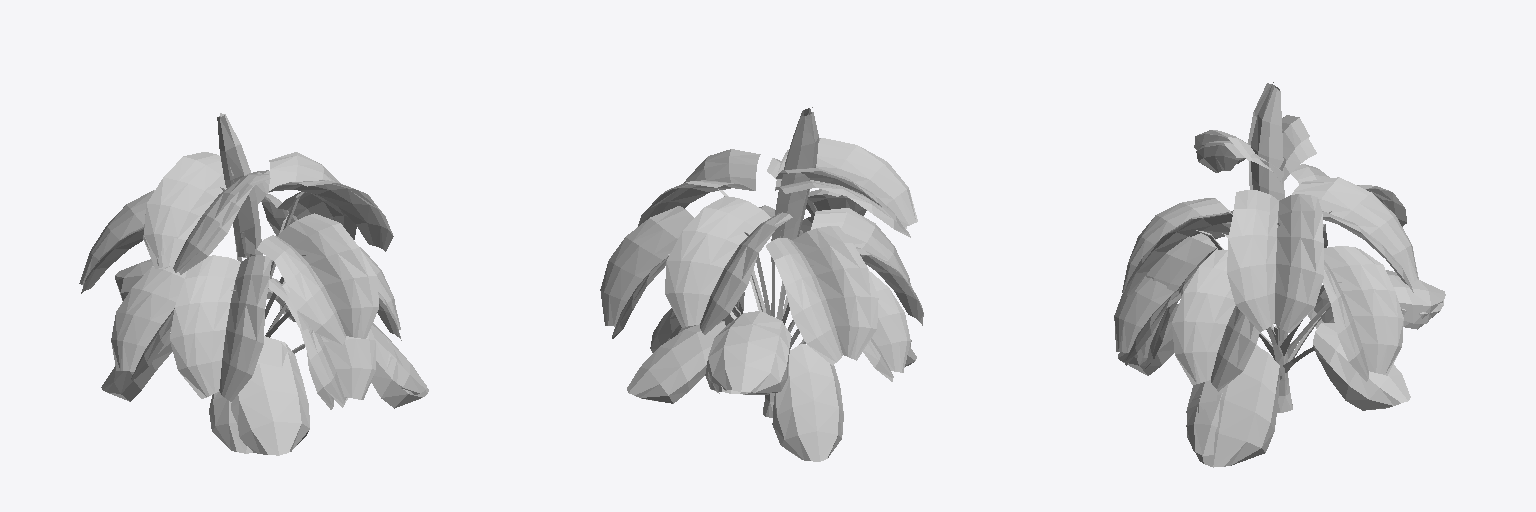
The model's file is Alocasia macrorrhiza 01_LOD2.obj.
3 renders of one model, left to right at view 1: azimuth 30°, elevation 25°; view 2: azimuth 150°, elevation 25°; view 3: azimuth 270°, elevation 25°, orthographic.
Parts seen in each view (by area): view 1: tree; view 2: tree; view 3: tree.
Part boxes in pixels (left/top/right/bottom): tree: left=79, top=113, right=428, bottom=455; tree: left=600, top=107, right=923, bottom=461; tree: left=1114, top=82, right=1445, bottom=467.
Bounding box in the file's own units: 218 × 230 × 223.